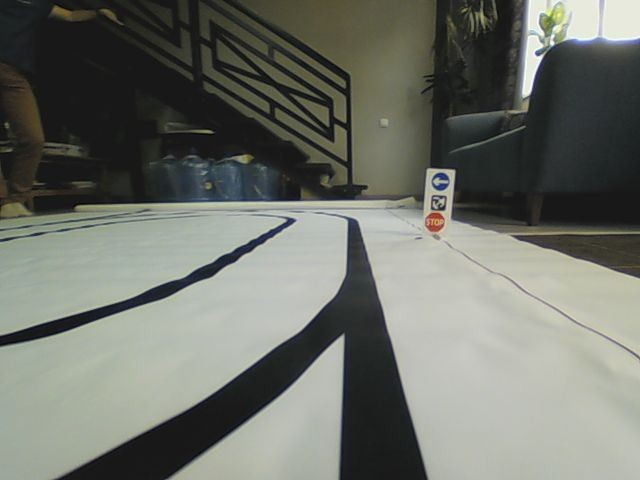Stop: (425, 212, 445, 232)
